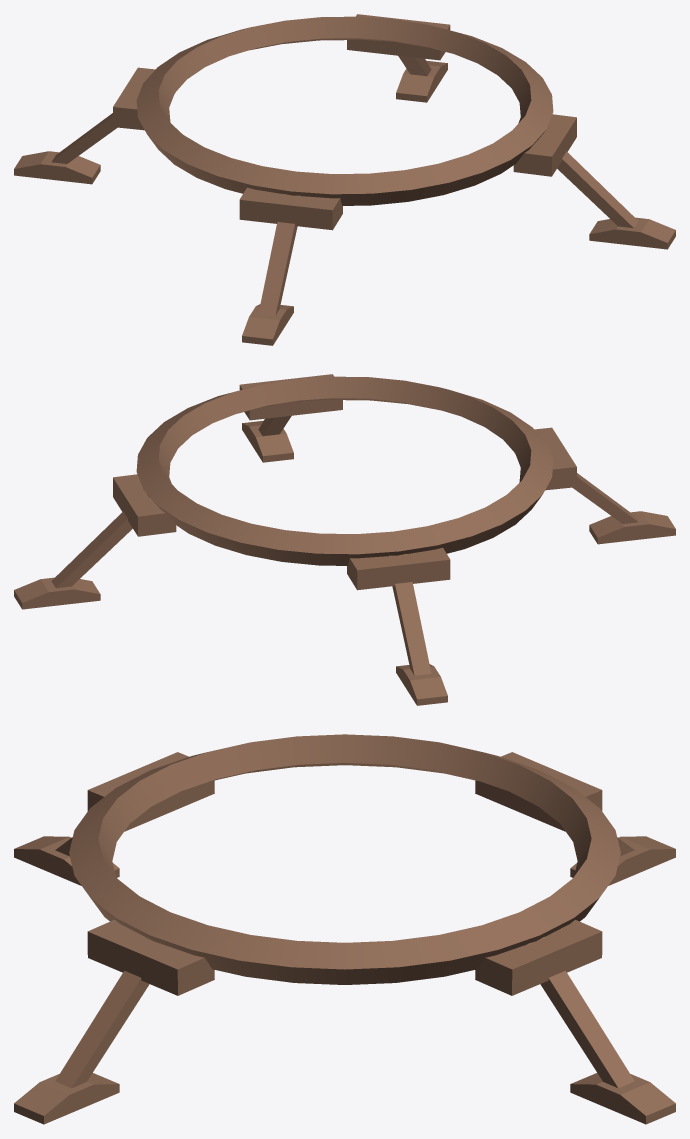
File: quaternius-ultimate-space-pack-house-single-support-transformed.glb
3 views of the same model, one above another, from view 1: azimuth 30°, elevation 25°; view 2: azimuth 150°, elevation 25°; view 3: azimuth 270°, elevation 25° (orthographic). The views are drawn at different scales.
Visible parts, largest first — view 1: House_Single_Support; view 2: House_Single_Support; view 3: House_Single_Support.
Part boxes in pixels (left/top/right/bottom): House_Single_Support: left=14, top=14, right=675, bottom=345; House_Single_Support: left=14, top=374, right=675, bottom=705; House_Single_Support: left=14, top=734, right=675, bottom=1124.
Size of the model in its own units: 3.58 by 0.8718 by 3.58.
Materials: 1 (1 with a texture image).
